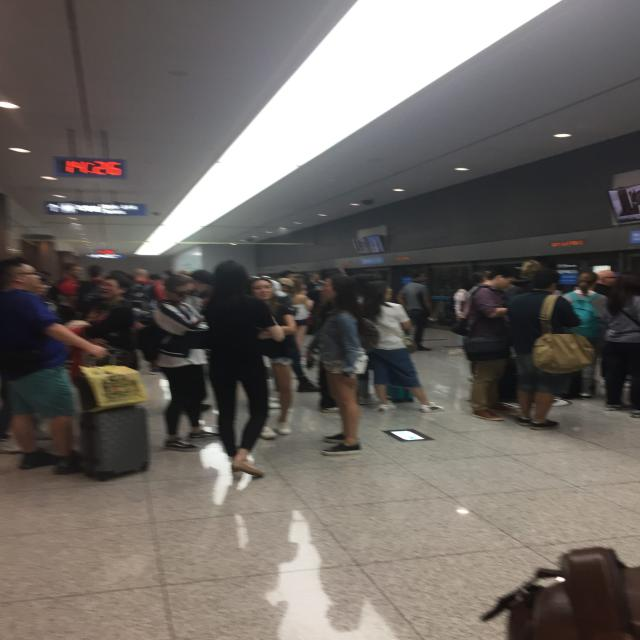body: (0, 259, 112, 477), (199, 258, 288, 478), (148, 272, 222, 451), (506, 266, 584, 431), (316, 273, 382, 458), (360, 279, 449, 413), (453, 264, 520, 422), (249, 278, 299, 440), (554, 268, 610, 401), (601, 272, 640, 423), (82, 269, 139, 369), (36, 262, 111, 318), (124, 268, 163, 375), (275, 277, 316, 371), (396, 270, 437, 352), (284, 333, 318, 394), (150, 268, 206, 300), (449, 280, 475, 333), (586, 263, 620, 302), (512, 258, 546, 292), (144, 329, 168, 372), (1, 414, 26, 454), (302, 272, 329, 308), (260, 275, 290, 298), (467, 269, 492, 295)
